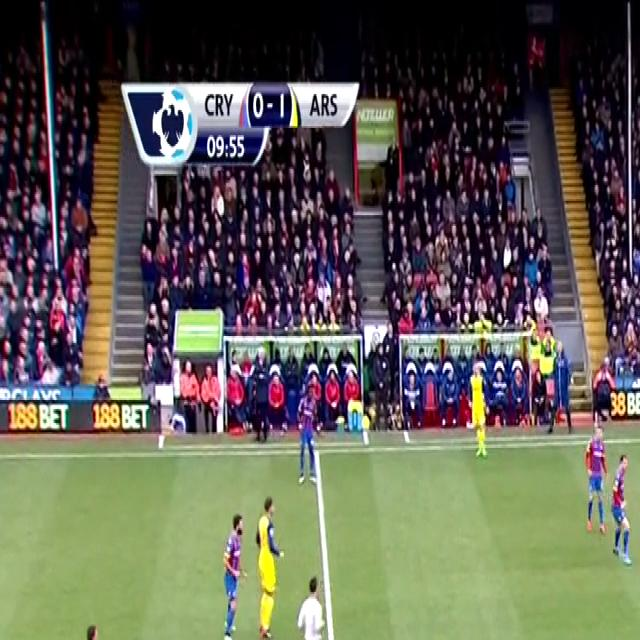referee: (291, 576, 342, 640)
soccer-player: (213, 503, 271, 640), (599, 453, 640, 572), (574, 425, 613, 542), (288, 412, 322, 490), (54, 618, 117, 640), (639, 436, 640, 554)
